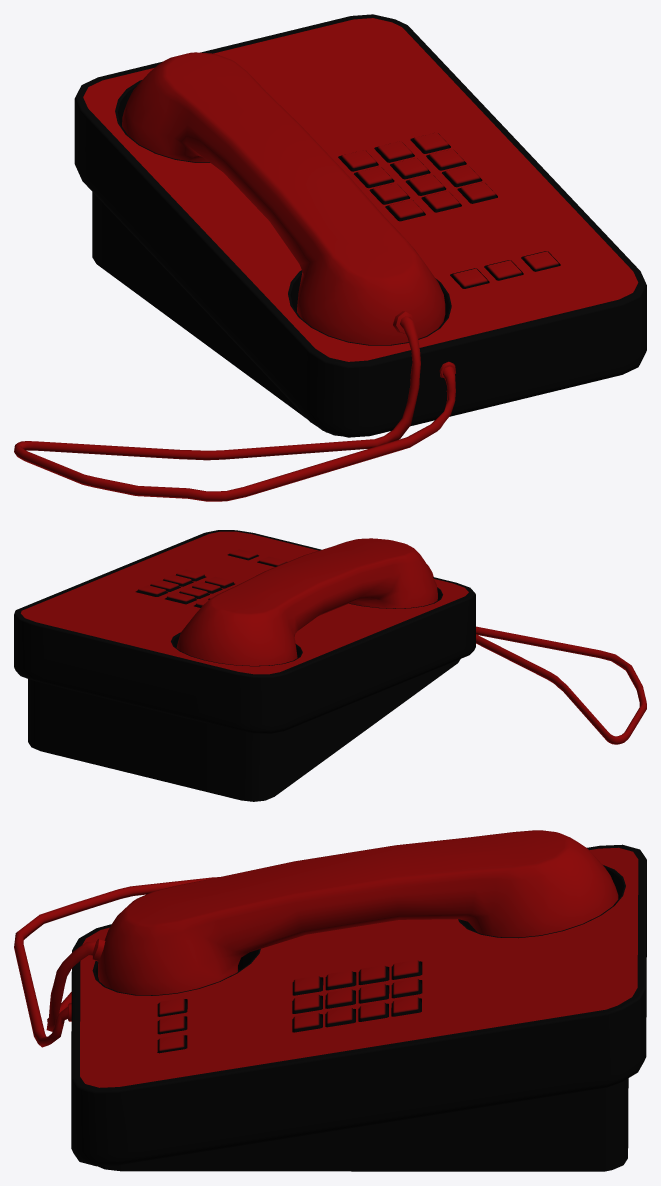
Rendered from Phone.fbx.
3 views of the same model, one above another, from view 1: azimuth 30°, elevation 25°; view 2: azimuth 150°, elevation 25°; view 3: azimuth 270°, elevation 25° (orthographic). The views are drawn at different scales.
Visible parts, largest first — view 1: Phone; view 2: Phone; view 3: Phone.
Part boxes in pixels (x1=…): Phone: x1=14, y1=14, x2=646, y2=501; Phone: x1=14, y1=530, x2=646, y2=801; Phone: x1=14, y1=830, x2=646, y2=1171.
Size of the model in its own units: 37.3 by 12.48 by 33.9.
